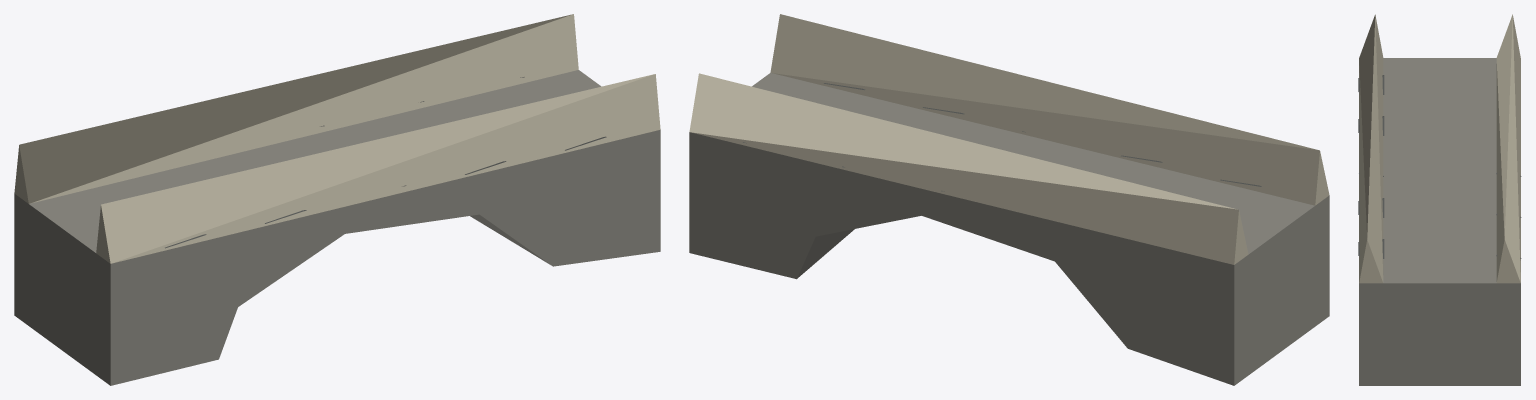
Rendered from bridge_small_stone_lod1.glb.
The picture shows the model from 3 angles, left to right: view 1: azimuth 30°, elevation 25°; view 2: azimuth 150°, elevation 25°; view 3: azimuth 270°, elevation 25°; orthographic projection. The views are drawn at different scales.
Parts seen in each view (by area): view 1: bridge_small_stone_lod1; view 2: bridge_small_stone_lod1; view 3: bridge_small_stone_lod1.
Part boxes in pixels (bbox=[...]): bridge_small_stone_lod1: bbox=[14, 14, 660, 385]; bridge_small_stone_lod1: bbox=[689, 14, 1329, 385]; bridge_small_stone_lod1: bbox=[1358, 14, 1521, 385].
Size of the model in its own units: 6.6 by 2 by 2.02.
